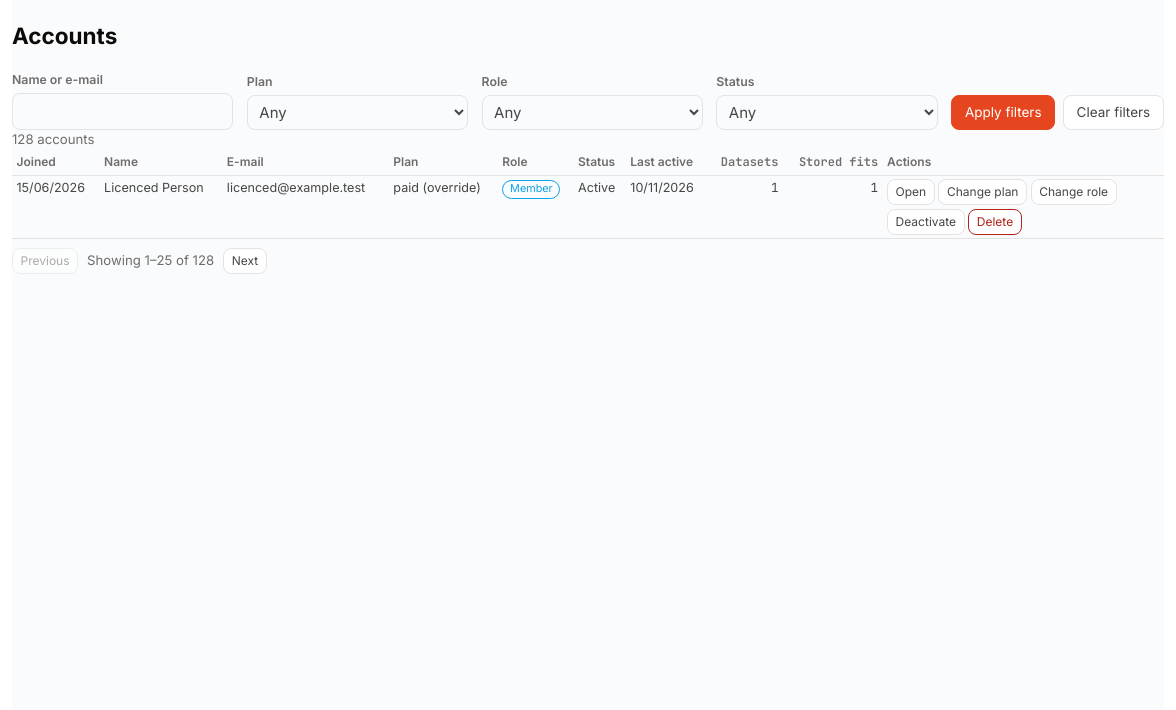
Test: UsersPage — one account's detail › shows the licence entitlement behind the plan, and that an override wins until a licence changes it
Expected: the table named "Accounts" is shown, x1=12 y1=150 x2=1164 y2=239
Click the button with aria-label "Open licenced@example.test". click: (911, 192)
box: x1=887 y1=179 x2=935 y2=205
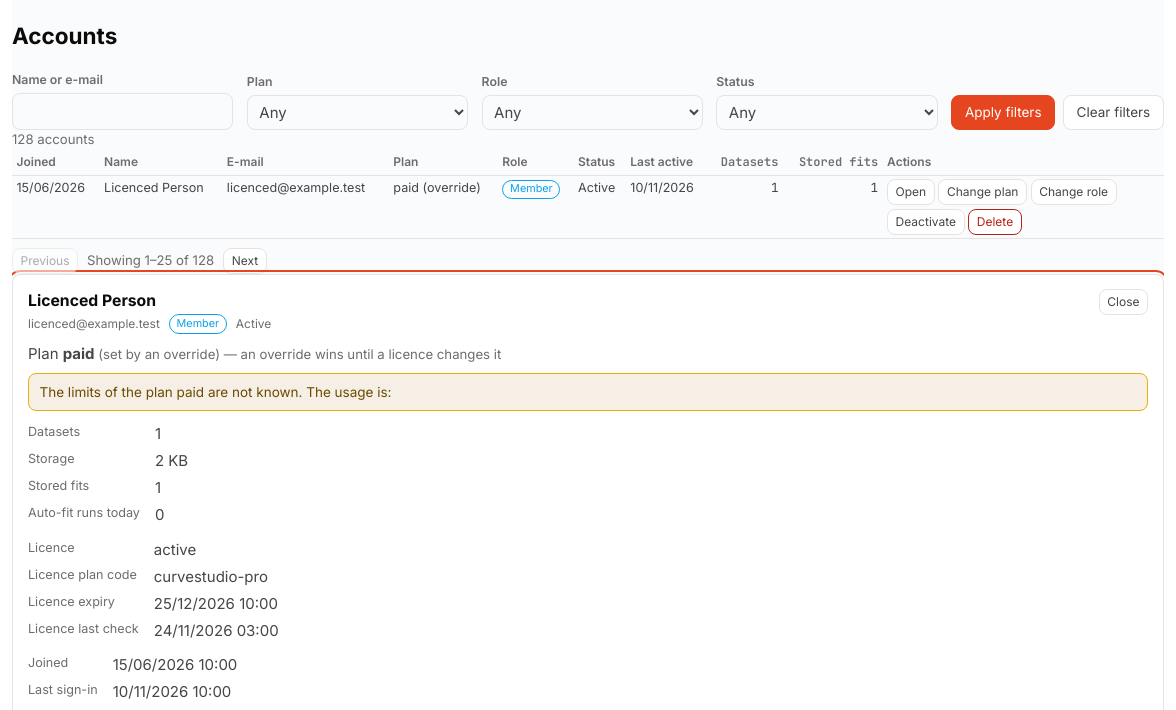
Result: the text "set by an override" is shown at x1=98 y1=346 x2=220 y2=362
Result: the text "an override wins until a licence changes it" is shown at x1=220 y1=346 x2=501 y2=362
